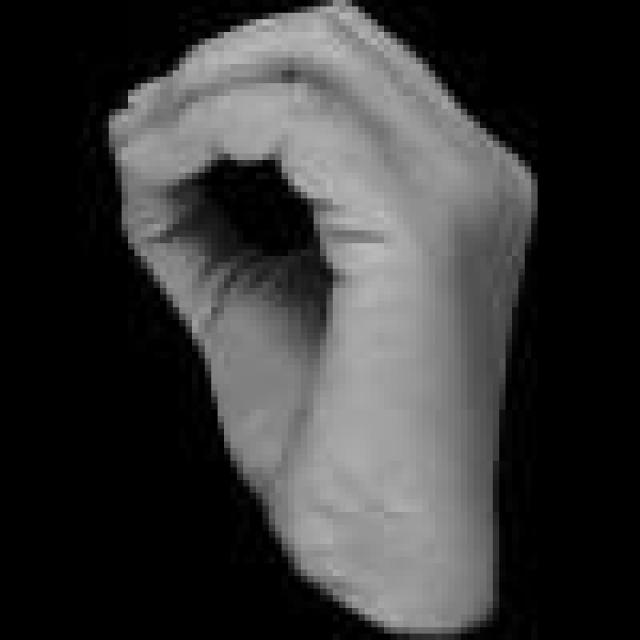O: (106, 0, 566, 634)
